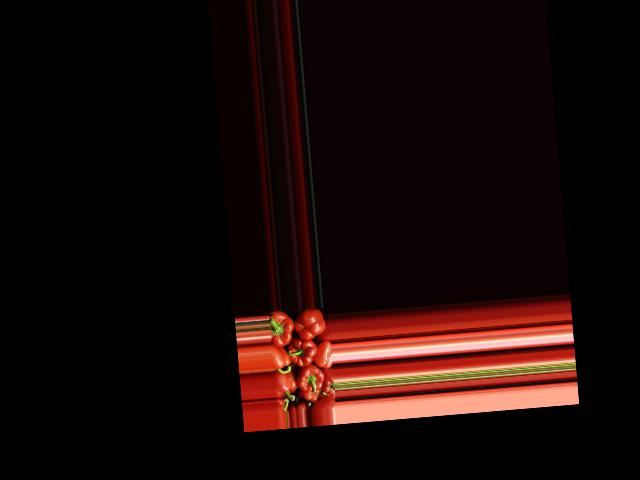bell_pepper: (314, 339, 332, 368)
